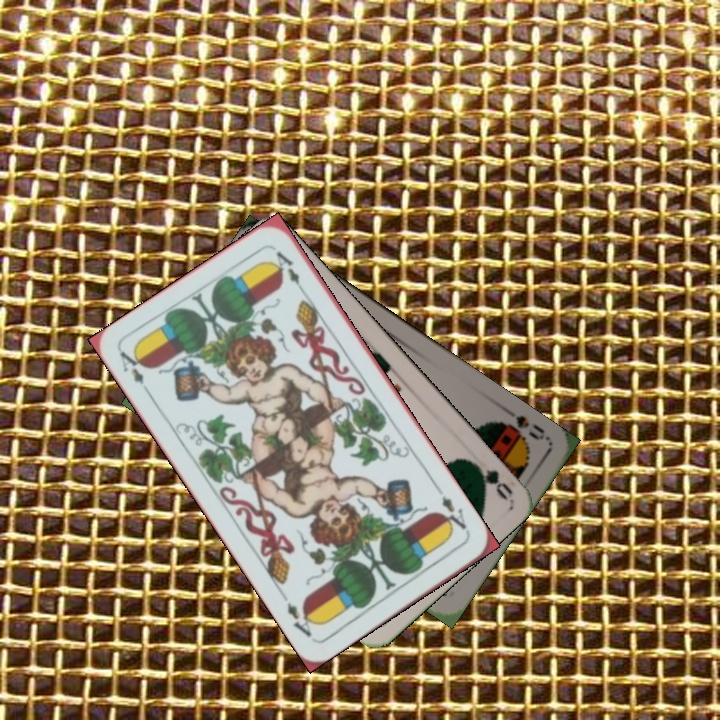EA: (115, 345, 154, 399), (436, 491, 472, 536)
GO: (463, 456, 515, 502)
SO: (491, 402, 551, 446)
